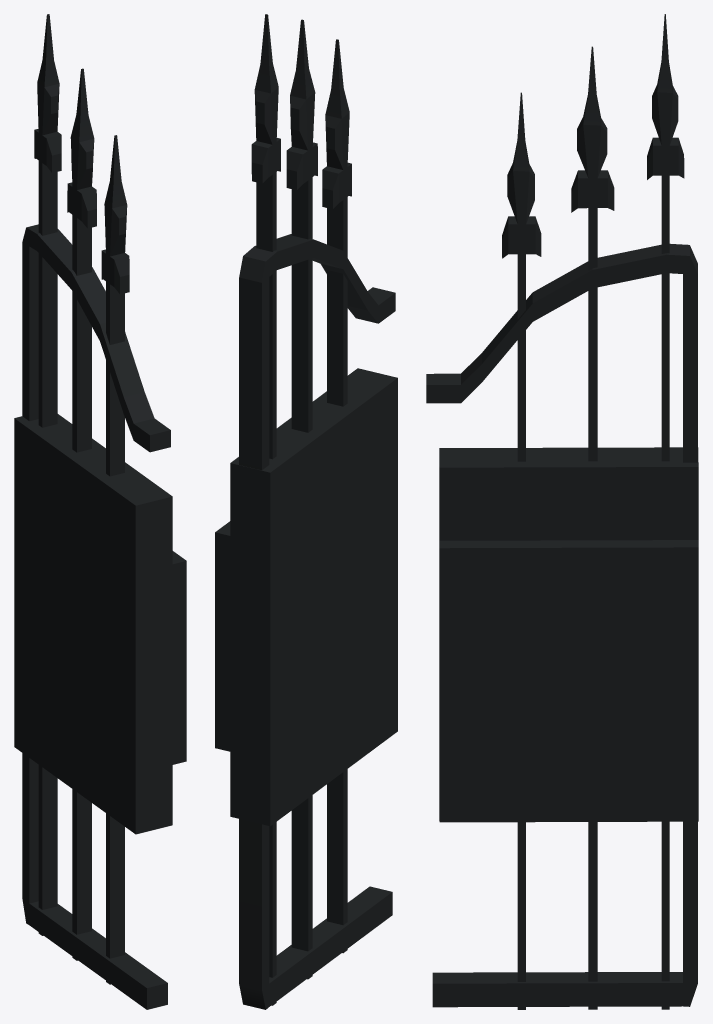
The model's file is CemeteryDoor2.fbx.
3 renders of one model, left to right at view 1: azimuth 30°, elevation 25°; view 2: azimuth 150°, elevation 25°; view 3: azimuth 270°, elevation 25°, orthographic. The views are drawn at different scales.
Visible parts, largest first — view 1: GraveDoor2; view 2: GraveDoor2; view 3: GraveDoor2.
Part boxes in pixels (bbox=[...]): GraveDoor2: bbox=[14, 14, 186, 1009]; GraveDoor2: bbox=[215, 14, 397, 1009]; GraveDoor2: bbox=[426, 14, 698, 1009].
Size of the model in its own units: 0.4317 by 7.2 by 1.79.
